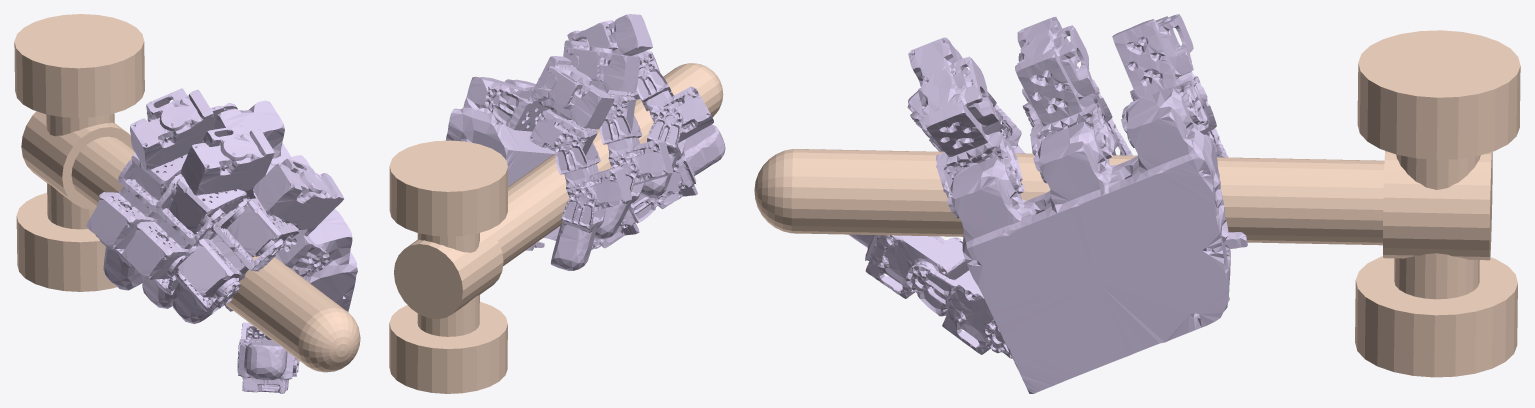
Rendered from 87eebf8c4c5b88-final.glb.
3 views of the same model, side by side, from view 1: azimuth 30°, elevation 25°; view 2: azimuth 150°, elevation 25°; view 3: azimuth 270°, elevation 25° (orthographic). The views are drawn at different scales.
Visible parts, largest first — view 1: LEAP_hand, world; view 2: LEAP_hand, world; view 3: LEAP_hand, world.
Boxes of the visible parts, box(x1,y1,x2,y2) form: LEAP_hand: box(86, 88, 357, 393); world: box(14, 14, 360, 372); LEAP_hand: box(446, 14, 725, 270); world: box(389, 63, 723, 393); LEAP_hand: box(848, 14, 1247, 393); world: box(754, 30, 1520, 377).
Bounding box in the file's own units: 0.1321 × 0.1671 × 0.3586.
